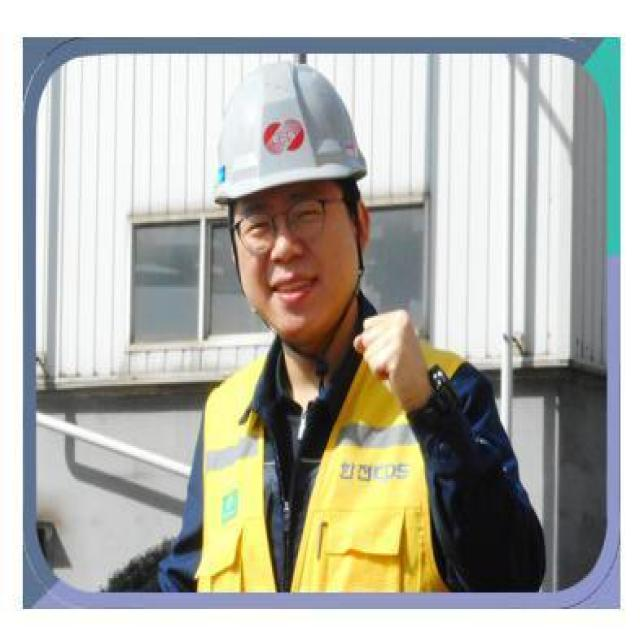helmet: (210, 60, 368, 206)
